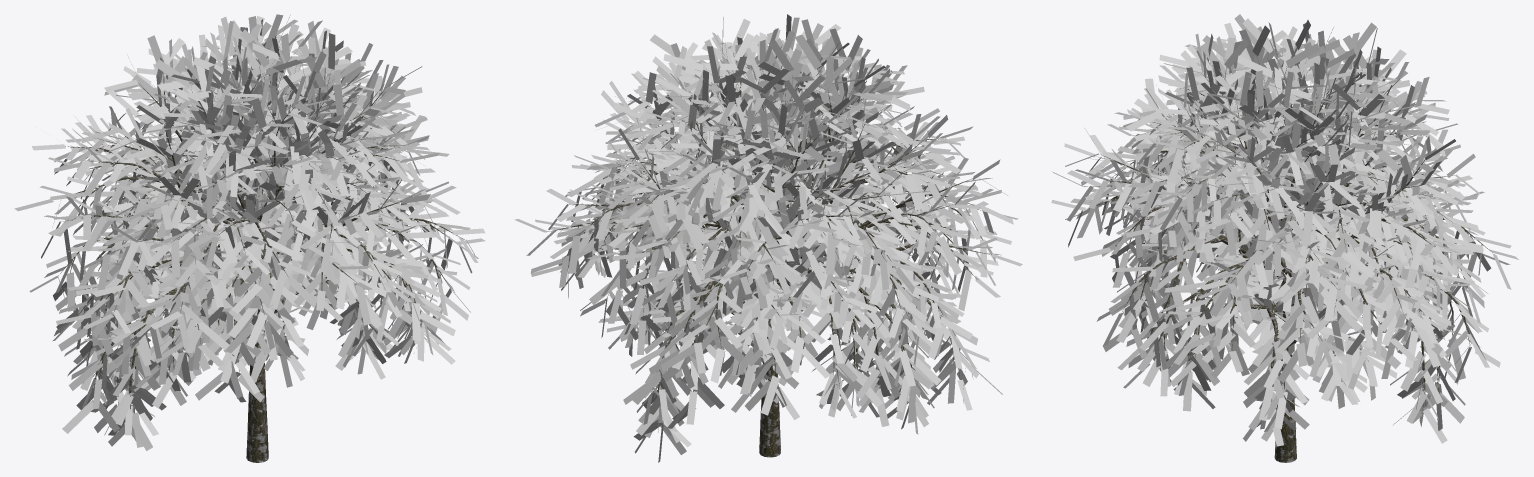
Rendered from TreeA.fbx.
3 views of the same model, side by side, from view 1: azimuth 30°, elevation 25°; view 2: azimuth 150°, elevation 25°; view 3: azimuth 270°, elevation 25° (orthographic). The views are drawn at different scales.
Visible parts, largest first — view 1: leaves.treeA_LOD0, treeA_LOD0; view 2: leaves.treeA_LOD0, treeA_LOD0; view 3: leaves.treeA_LOD0, treeA_LOD0.
Part boxes in pixels (x1,y1,x2,y2): leaves.treeA_LOD0: (14,14,485,450); treeA_LOD0: (58,47,466,462); leaves.treeA_LOD0: (514,14,1022,462); treeA_LOD0: (548,53,991,457); leaves.treeA_LOD0: (1051,14,1518,446); treeA_LOD0: (1084,53,1494,462).
Size of what is drawn, in the model's own units: 1298 by 1274 by 1255.
